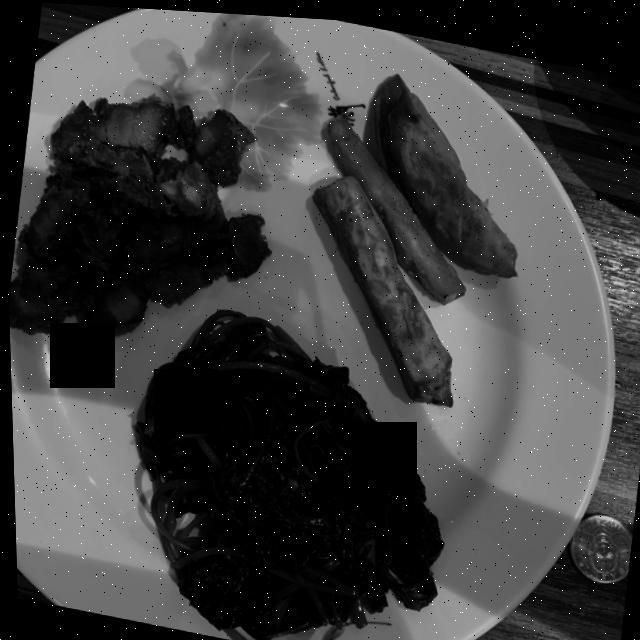coin: (567, 506, 630, 576)
red grilled pork: (7, 93, 267, 332)
sweet potato leaves: (134, 307, 439, 637)
